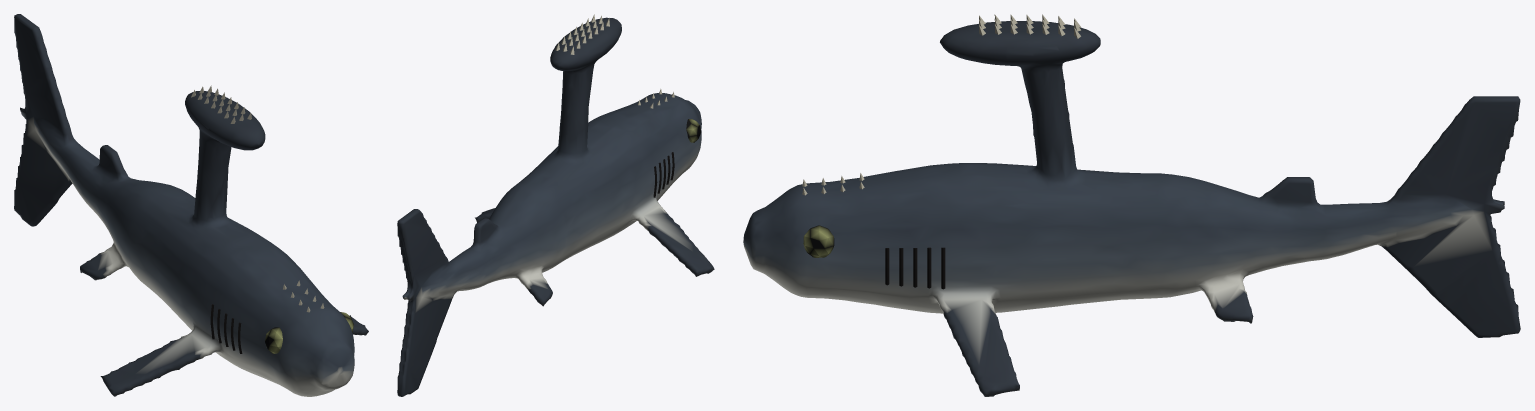
Rendered from Stethacanthus.fbx.
3 views of the same model, side by side, from view 1: azimuth 30°, elevation 25°; view 2: azimuth 150°, elevation 25°; view 3: azimuth 270°, elevation 25° (orthographic). The views are drawn at different scales.
Parts seen in each view (by area): view 1: Stethacanthus; view 2: Stethacanthus; view 3: Stethacanthus.
Part boxes in pixels (<box>): Stethacanthus: <box>14,14,368,396</box>; Stethacanthus: <box>397,14,714,396</box>; Stethacanthus: <box>743,14,1520,396</box>.
Size of the model in its own units: 0.5596 by 0.5534 by 1.22.
